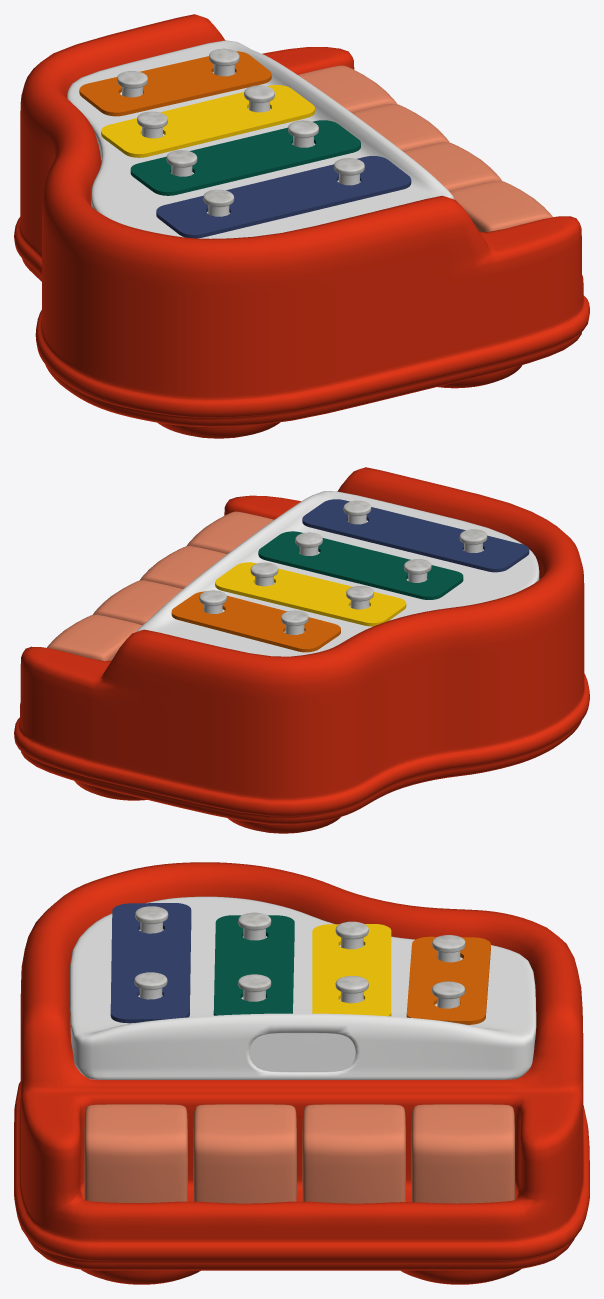
The model's file is Piano toy rigged tiles.fbx.
3 renders of one model, top to bottom at view 1: azimuth 30°, elevation 25°; view 2: azimuth 150°, elevation 25°; view 3: azimuth 270°, elevation 25°, orthographic. The views are drawn at different scales.
Visible parts, largest first — view 1: Plane.009, Plane.008, Cube.042, Cube.041, Cube.040, Cube.039, Cube.001, Cube.004, Cube.002, Cube.003, Cube.033, Cube.032 (+6 smaller); view 2: Plane.009, Plane.008, Cube.042, Cube.041, Cube.040, Cube.039, Cube.002, Cube.003, Cube.004, Cube.001, Cube.034, Cube.036 (+6 smaller); view 3: Plane.009, Plane.008, Cube.003, Cube.004, Cube.002, Cube.001, Cube.042, Cube.041, Cube.040, Cube.039, Plane.010, Cube.034 (+7 smaller).
Boxes of the visible parts, x1,y1,x2,y2 form: Plane.009: (14, 14, 589, 438); Plane.008: (67, 40, 454, 238); Cube.042: (156, 156, 411, 238); Cube.041: (130, 120, 360, 195); Cube.040: (101, 85, 314, 157); Cube.039: (79, 51, 271, 116); Cube.001: (450, 180, 552, 231); Cube.004: (403, 142, 501, 191); Cube.002: (298, 65, 396, 112); Cube.003: (352, 104, 449, 151); Cube.033: (209, 48, 239, 76); Cube.032: (203, 189, 234, 216); Plane.009: (14, 467, 589, 833); Plane.008: (136, 491, 539, 656); Cube.042: (302, 499, 529, 572); Cube.041: (258, 531, 463, 599); Cube.040: (215, 562, 406, 626); Cube.039: (171, 591, 340, 652); Cube.002: (47, 614, 141, 661); Cube.003: (93, 580, 182, 625); Cube.004: (139, 546, 226, 588); Cube.001: (186, 511, 273, 553); Cube.034: (281, 610, 308, 634); Cube.036: (404, 559, 431, 582); Plane.009: (14, 862, 589, 1284); Plane.008: (70, 896, 536, 1079); Cube.003: (302, 1104, 405, 1203); Cube.004: (193, 1104, 296, 1203); Cube.002: (411, 1104, 514, 1203); Cube.001: (84, 1104, 187, 1202); Cube.042: (110, 903, 191, 1023); Cube.041: (213, 915, 294, 1015); Cube.040: (312, 924, 391, 1016); Cube.039: (406, 936, 490, 1024); Plane.010: (249, 1033, 355, 1071); Cube.034: (432, 935, 465, 962).
Size of the model in its own units: 22.9 by 10.29 by 23.42.
